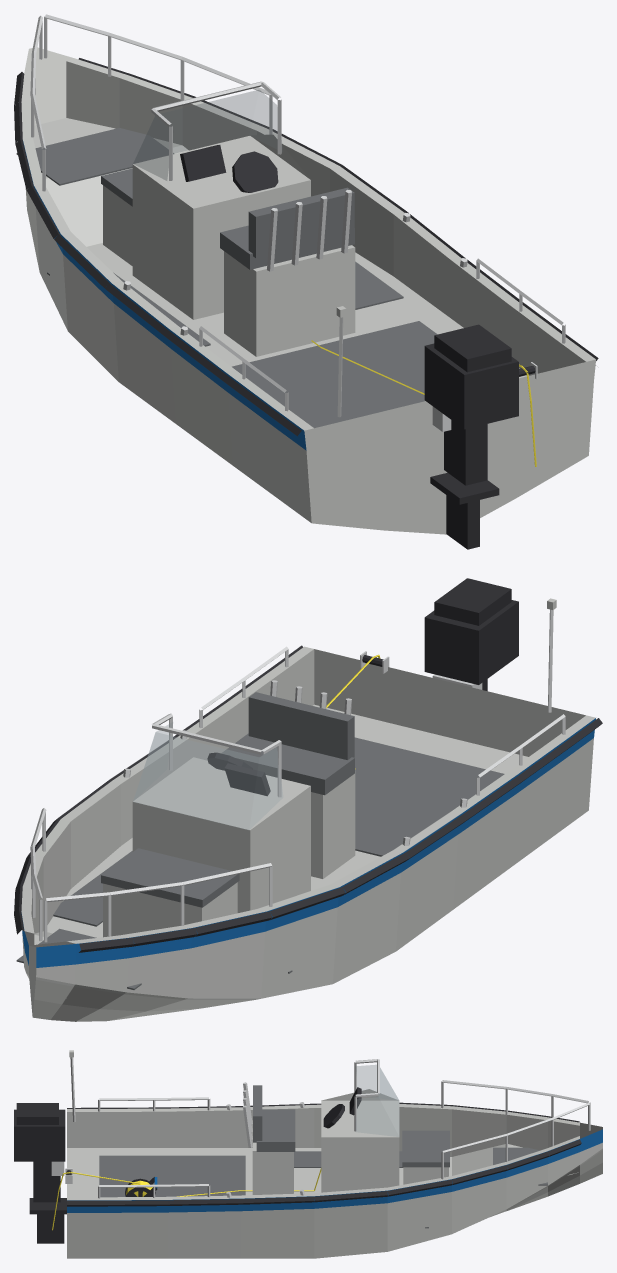
File: boat.glb
The picture shows the model from 3 angles, top to bottom: view 1: azimuth 30°, elevation 25°; view 2: azimuth 150°, elevation 25°; view 3: azimuth 270°, elevation 25°; orthographic projection. The views are drawn at different scales.
Parts seen in each view (by area): view 1: boat_hull; view 2: boat_hull; view 3: boat_hull.
Boxes of the visible parts, x1,y1,x2,y2 form: boat_hull: (14, 14, 598, 549); boat_hull: (14, 578, 602, 1021); boat_hull: (14, 1050, 602, 1258).
Size of the model in its own units: 2.47 by 2.03 by 6.43.
